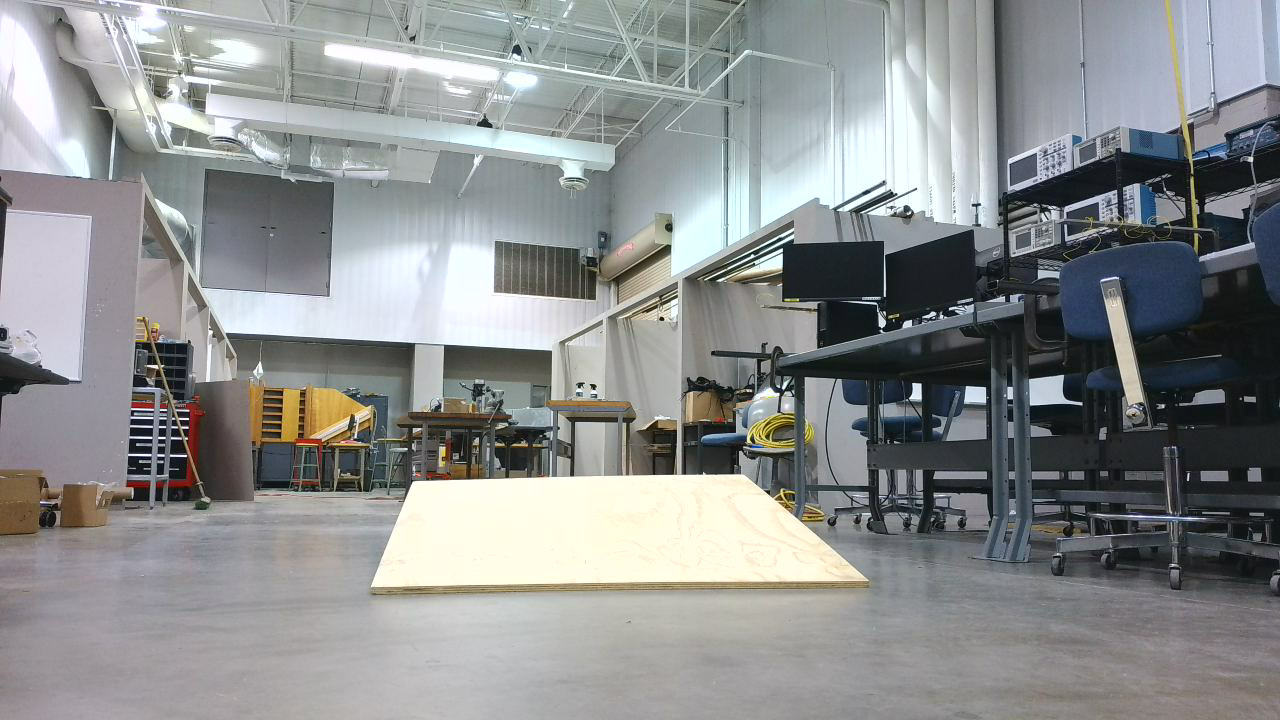ramp: (372, 476, 881, 606)
